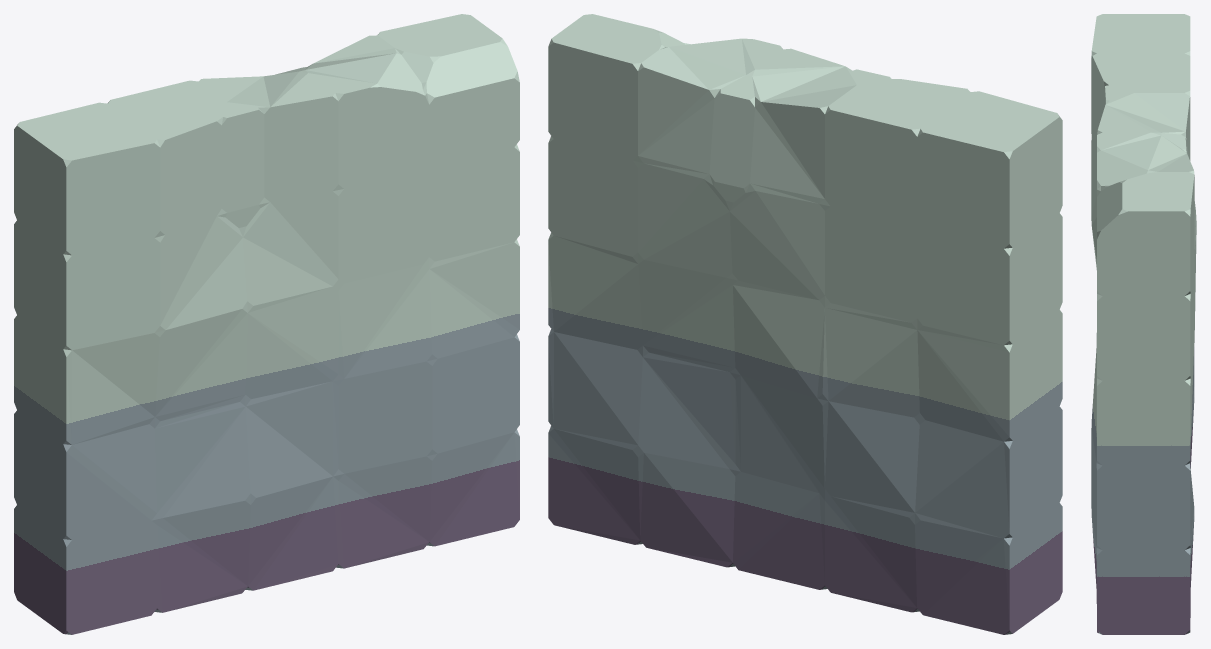
The model's file is Wall 1.001.fbx.
3 views of the same model, side by side, from view 1: azimuth 30°, elevation 25°; view 2: azimuth 150°, elevation 25°; view 3: azimuth 270°, elevation 25° (orthographic). The views are drawn at different scales.
Visible parts, largest first — view 1: Wall 1.001; view 2: Wall 1.001; view 3: Wall 1.001.
Boxes of the visible parts, <box> form: Wall 1.001: <box>14,14,519,634</box>; Wall 1.001: <box>548,14,1062,634</box>; Wall 1.001: <box>1091,14,1196,634</box>.
Size of the model in its own units: 500 by 500 by 113.
